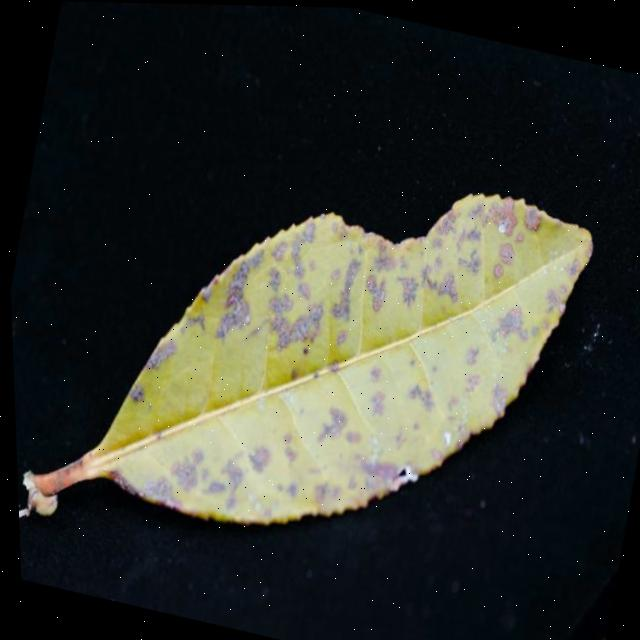Tea red rust: (89, 123, 584, 580)
